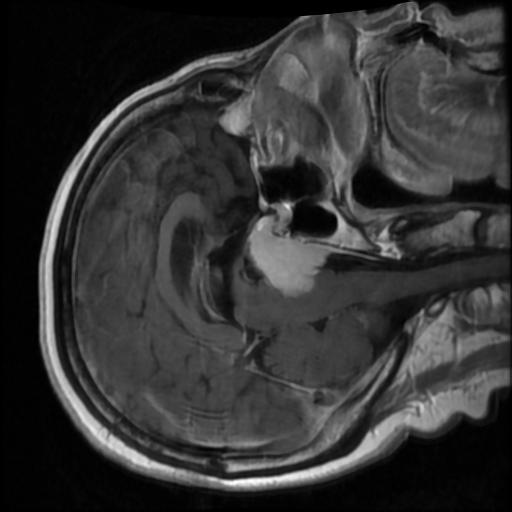meningioma: (245, 216, 324, 292)
